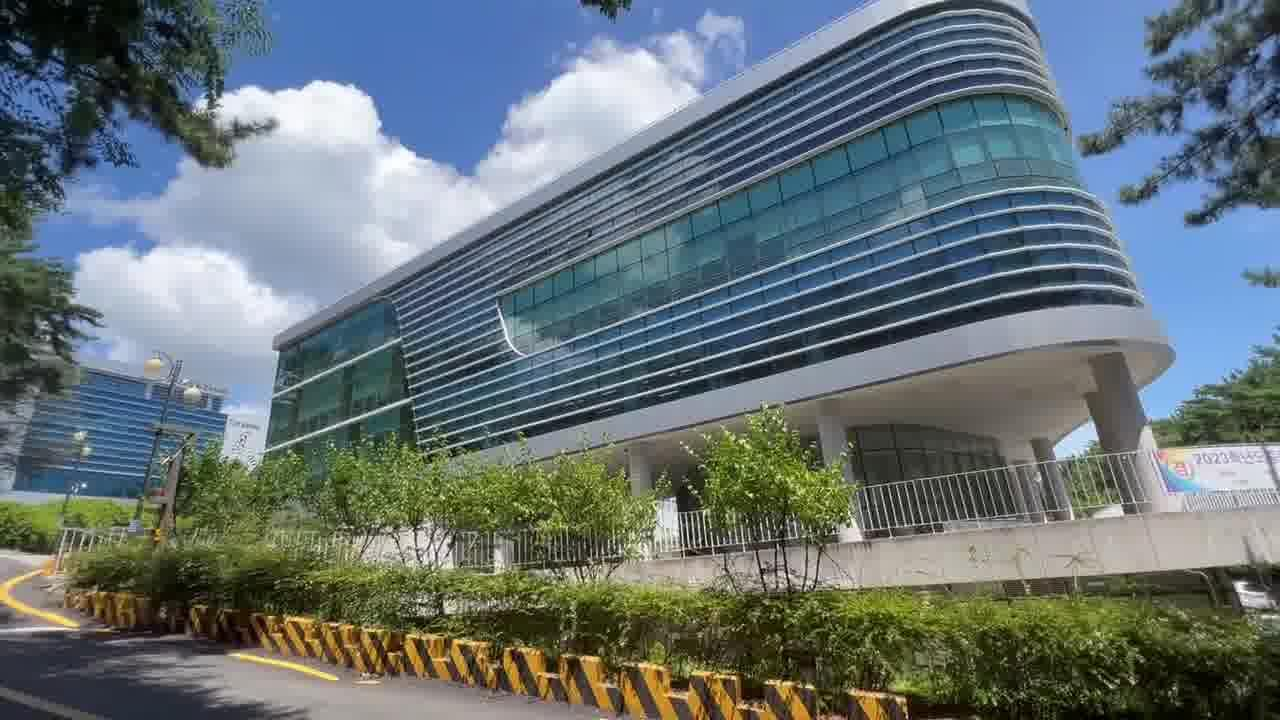building: (290, 0, 1143, 440)
